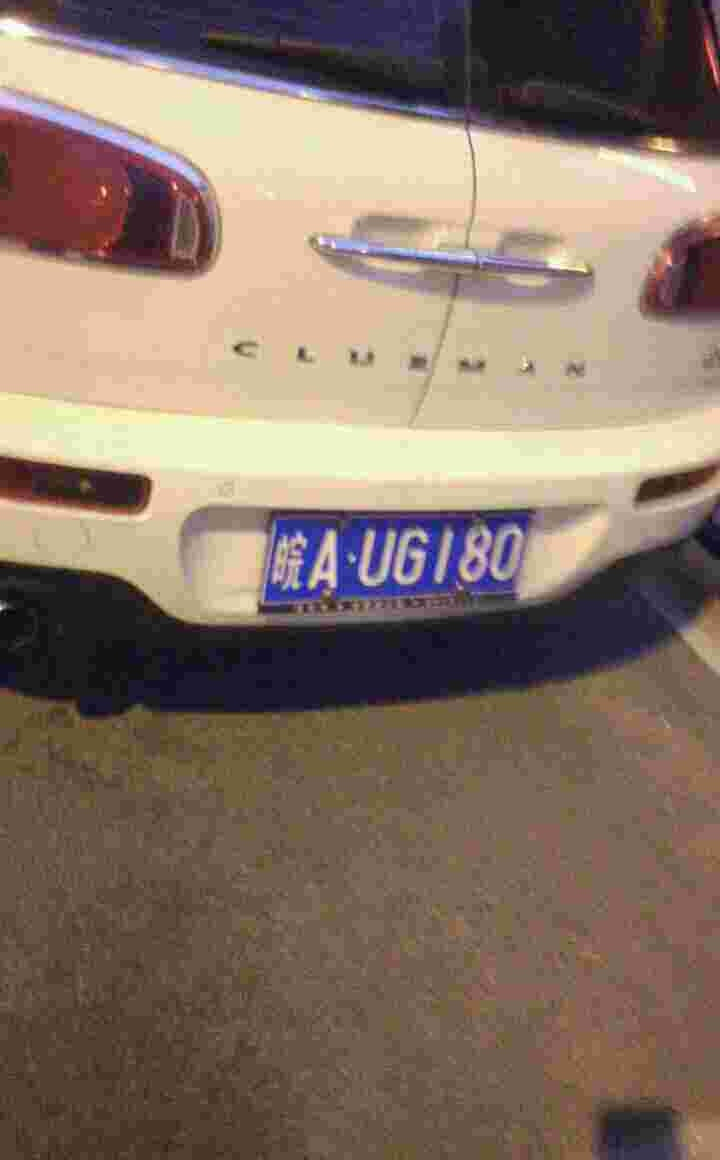license_plate: (267, 512, 531, 603)
